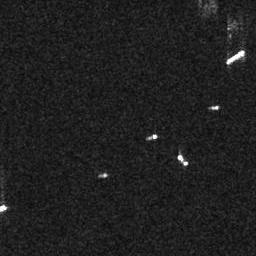ship: (225, 50, 246, 65), (177, 154, 188, 166), (147, 133, 159, 141), (99, 172, 108, 179), (210, 104, 219, 111)
